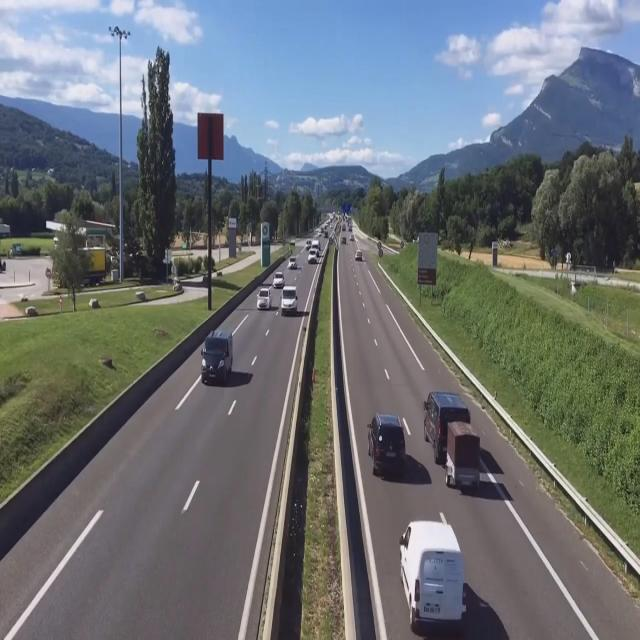car: (399, 514, 468, 636), (422, 388, 471, 463), (366, 414, 408, 483), (201, 331, 235, 387), (281, 286, 298, 315), (258, 284, 274, 310)
